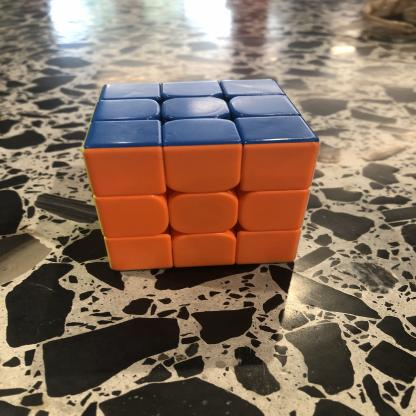SolvedCube: (76, 61, 315, 280)
